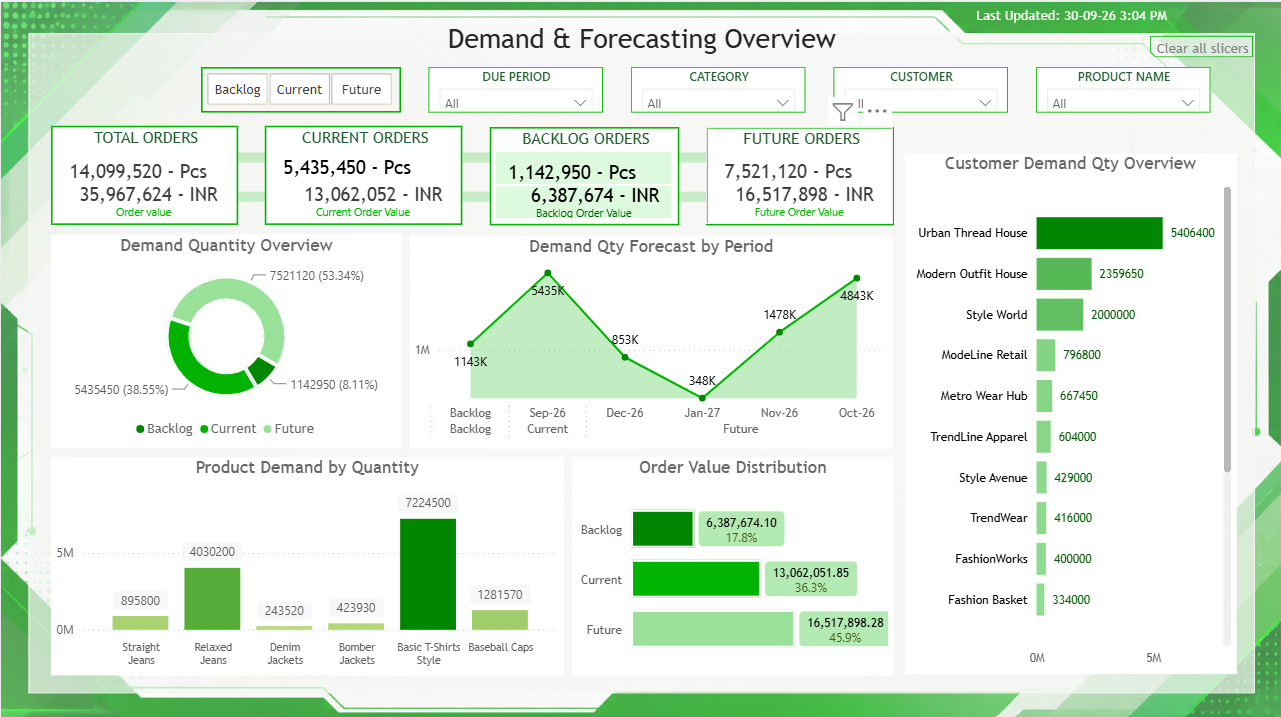

What the dashboard file says about the page in this screenshot:
{"tool":"powerbi","page":{"name":"ORDER LOAD OVERVIEW","canvas":[1280,720],"ordinal":0},"visuals":[{"type":"shape","title":"bg","box":[28,31.9,1226.5,660.4],"z":0},{"type":"shape","box":[54.2,150.3,836.7,11.1],"z":1000},{"type":"shape","box":[57.9,176.2,833,37],"z":2000},{"type":"textbox","box":[322.5,16.1,636.4,76.9],"z":3000},{"type":"advancedSlicerVisual","fields":{"Values":["Sales Order Report.SalesType"]},"box":[199.9,65.1,200.2,45.5],"z":4000},{"type":"slicer","title":"CUSTOMER","fields":{"Values":["Sales Order Report.CardName"]},"box":[832.8,65.1,174.4,45.5],"z":6000},{"type":"slicer","title":"CATEGORY","fields":{"Values":["Sales Order Report.ProductCategory"]},"box":[630.4,65.1,174.4,45.5],"z":7000},{"type":"slicer","title":"PRODUCT NAME","fields":{"Values":["Sales Order Report.ProductName"]},"box":[1035.5,65.1,174.4,45.5],"z":8000},{"type":"slicer","title":"DUE PERIOD","fields":{"Values":["Sales Order Report.Year","Sales Order Report.Month YEar"]},"box":[428.1,65.1,174.4,45.5],"z":9000},{"type":"donutChart","title":"Demand Quantity Overview","fields":{"Category":["Sales Order Report.Type V","Sales Order Report.Type"],"Y":["Sales Order Report.Order Quantity"]},"box":[49.5,232.8,351.1,213.5],"z":10000},{"type":"lineClusteredColumnComboChart","title":"Product Demand by Quantity","fields":{"Category":["Sales Order Report.ProductName"],"Y":["Sales Order Report.Order Quantity"]},"box":[49.7,455.1,512.5,218],"z":11000},{"type":"clusteredBarChart","title":"Customer Demand Qty Overview","fields":{"Category":["Sales Order Report.CardName"],"Y":["Sales Order Report.Order Quantity"]},"box":[903.6,150.8,331.8,521.2],"z":12000},{"type":"areaChart","title":"Demand Qty Forecast by Period","fields":{"Category":["Sales Order Report.Type V","Sales Order Report.Type"],"Y":["Sales Order Report.Order Quantity"]},"box":[409.2,233.3,483.2,212.9],"z":13000},{"type":"clusteredBarChart","title":"Order Value Distribution","fields":{"Category":["Sales Order Report.Type V","Sales Order Report.Type"],"Y":["Sales Order Report.Order Value"]},"box":[571.2,455.1,321.3,218],"z":14000},{"type":"cardVisual","title":"TOTAL ORDERS","fields":{"Data":["Sales Order Report.SaleOrderQty","Sales Order Report.SaleOrdervalue"]},"box":[49.5,124.3,187,98.9],"z":15000},{"type":"cardVisual","title":"CURRENT ORDERS","fields":{"Data":["Sales Order Report.Current Order Qty","Sales Order Report.Current Order Value"]},"box":[263.2,124.2,197.9,98.9],"z":16000},{"type":"cardVisual","title":"BACKLOG ORDERS","fields":{"Data":["Sales Order Report.Backlog Order Qty","Sales Order Report.Backlog Order Value"]},"box":[488.5,124.4,189.2,98.5],"z":17000},{"type":"cardVisual","title":"FUTURE ORDERS","fields":{"Data":["Sales Order Report.Future Order Qty","Sales Order Report.Future Order Value"]},"box":[705.1,124.5,187.9,98.3],"z":18000},{"type":"actionButton","box":[1148.7,33.1,103.3,21.7],"z":19000},{"type":"card","fields":{"Values":["Refresh_Date.Refresh_Updated"]},"box":[961.3,0,219.3,31.9],"z":20000}]}

Visuals, with their boxes in screenshot pixels (x1, y1, x2, y2), scaled from the page's 1280x720 canvas onto the 1281x717 screenshot:
"bg" shape: bbox=(28, 32, 1255, 689)
shape: bbox=(54, 150, 892, 161)
shape: bbox=(58, 175, 892, 212)
textbox: bbox=(323, 16, 960, 93)
advancedSlicerVisual - Sales Order Report.SalesType: bbox=(200, 65, 400, 110)
"CUSTOMER" slicer: bbox=(833, 65, 1008, 110)
"CATEGORY" slicer: bbox=(631, 65, 805, 110)
"PRODUCT NAME" slicer: bbox=(1036, 65, 1211, 110)
"DUE PERIOD" slicer: bbox=(428, 65, 603, 110)
"Demand Quantity Overview" donutChart: bbox=(50, 232, 401, 444)
"Product Demand by Quantity" lineClusteredColumnComboChart: bbox=(50, 453, 563, 670)
"Customer Demand Qty Overview" clusteredBarChart: bbox=(904, 150, 1236, 669)
"Demand Qty Forecast by Period" areaChart: bbox=(410, 232, 893, 444)
"Order Value Distribution" clusteredBarChart: bbox=(572, 453, 893, 670)
"TOTAL ORDERS" cardVisual: bbox=(50, 124, 237, 222)
"CURRENT ORDERS" cardVisual: bbox=(263, 124, 461, 222)
"BACKLOG ORDERS" cardVisual: bbox=(489, 124, 678, 222)
"FUTURE ORDERS" cardVisual: bbox=(706, 124, 894, 222)
actionButton: bbox=(1150, 33, 1253, 55)
card - Refresh_Date.Refresh_Updated: bbox=(962, 0, 1182, 32)
